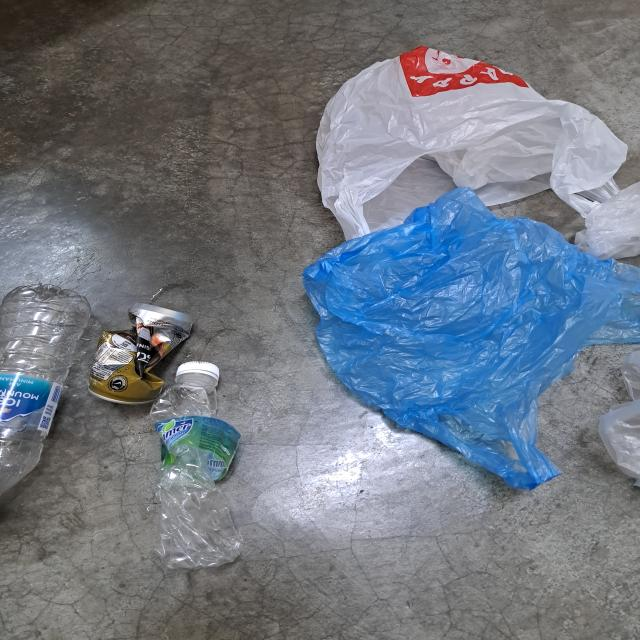can: (97, 306, 190, 401)
plastic bag: (305, 196, 640, 474), (313, 53, 627, 254)
plastic bottle: (1, 283, 91, 495), (158, 378, 248, 564)
